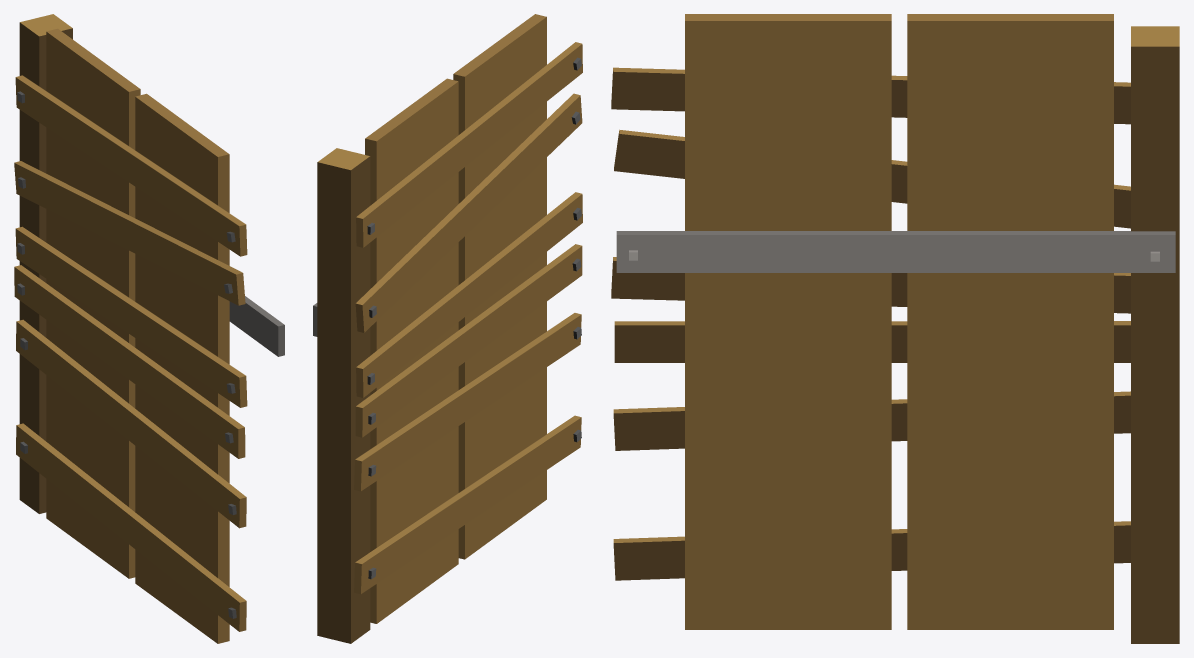
The model's file is FenceWoodL_Patched_04.fbx.
3 views of the same model, side by side, from view 1: azimuth 30°, elevation 25°; view 2: azimuth 150°, elevation 25°; view 3: azimuth 270°, elevation 25° (orthographic). The views are drawn at different scales.
Visible parts, largest first — view 1: FenceWoodL_Patched_04; view 2: FenceWoodL_Patched_04; view 3: FenceWoodL_Patched_04.
Part boxes in pixels (<box>): FenceWoodL_Patched_04: <box>14,14,284,643</box>; FenceWoodL_Patched_04: <box>313,14,582,643</box>; FenceWoodL_Patched_04: <box>611,14,1179,643</box>.
Bounding box in the file's own units: 0.7068 × 5.09 × 6.03.
